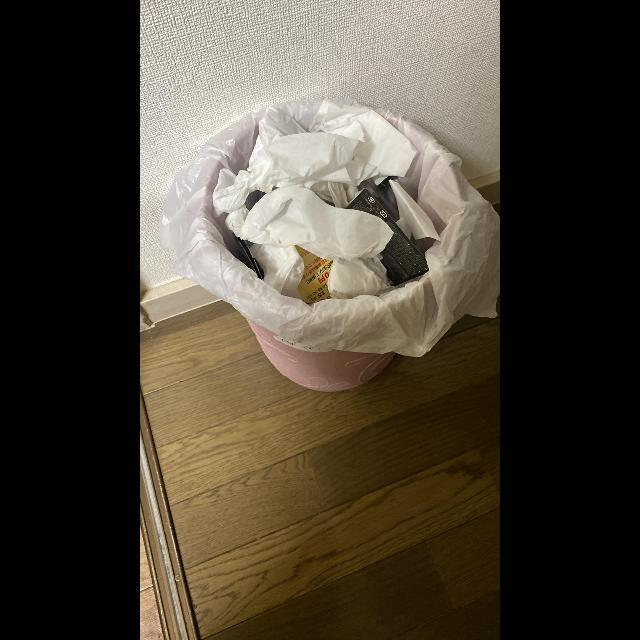paper: (212, 98, 418, 216), (225, 186, 394, 300), (347, 188, 429, 286), (389, 180, 441, 242), (249, 244, 304, 300), (295, 245, 333, 304)
